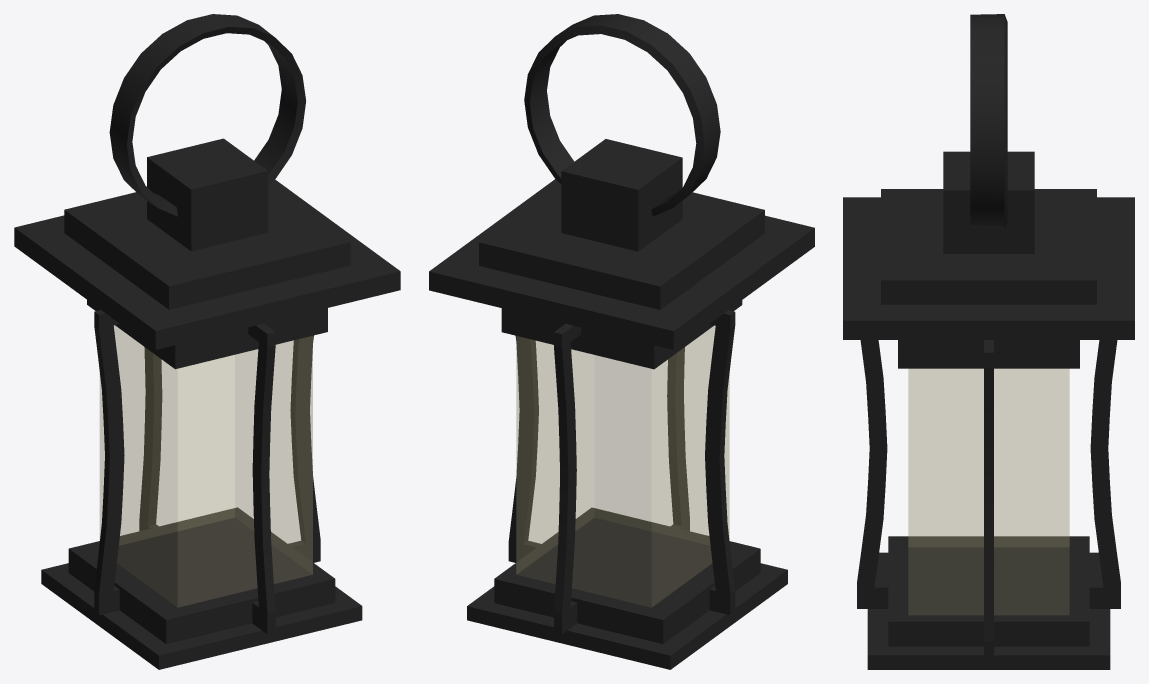
The model's file is lamp.fbx.
3 renders of one model, left to right at view 1: azimuth 30°, elevation 25°; view 2: azimuth 150°, elevation 25°; view 3: azimuth 270°, elevation 25°, orthographic. The views are drawn at different scales.
Visible parts, largest first — view 1: LampLid, Glass, LampBottom, Ring, bar04, bar02, bar03, bar01; view 2: LampLid, Glass, LampBottom, Ring, bar04, bar01, bar03, bar02; view 3: LampLid, Glass, LampBottom, Ring, bar02, bar01, bar03.
Boxes of the visible parts, x1=… form: LampLid: x1=14, y1=138, x2=400, y2=369; Glass: x1=100, y1=325, x2=312, y2=606; LampBottom: x1=41, y1=507, x2=362, y2=669; Ring: x1=109, y1=14, x2=305, y2=216; bar04: x1=94, y1=310, x2=124, y2=615; bar02: x1=248, y1=323, x2=275, y2=634; bar03: x1=288, y1=335, x2=320, y2=562; bar01: x1=139, y1=347, x2=162, y2=530; LampLid: x1=429, y1=139, x2=814, y2=369; Glass: x1=516, y1=325, x2=729, y2=607; LampBottom: x1=467, y1=507, x2=787, y2=669; Ring: x1=524, y1=14, x2=720, y2=216; bar04: x1=705, y1=310, x2=735, y2=615; bar01: x1=554, y1=323, x2=581, y2=634; bar03: x1=508, y1=336, x2=540, y2=562; bar02: x1=667, y1=347, x2=689, y2=531; LampLid: x1=843, y1=151, x2=1134, y2=368; Glass: x1=908, y1=369, x2=1069, y2=614; LampBottom: x1=867, y1=536, x2=1110, y2=669; Ring: x1=970, y1=14, x2=1007, y2=228; bar02: x1=857, y1=340, x2=888, y2=608; bar01: x1=1089, y1=340, x2=1120, y2=608; bar03: x1=984, y1=340, x2=993, y2=662.
Size of the model in its own units: 0.2395 by 0.5403 by 0.2395.
